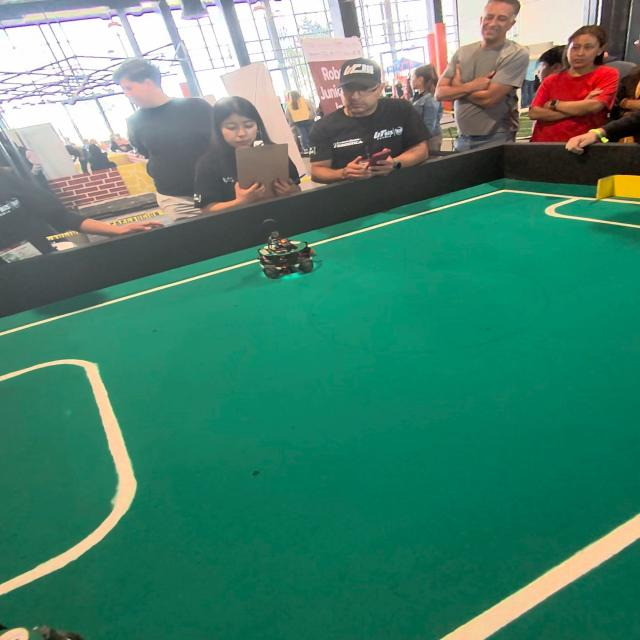Robot: (256, 224, 320, 279)
